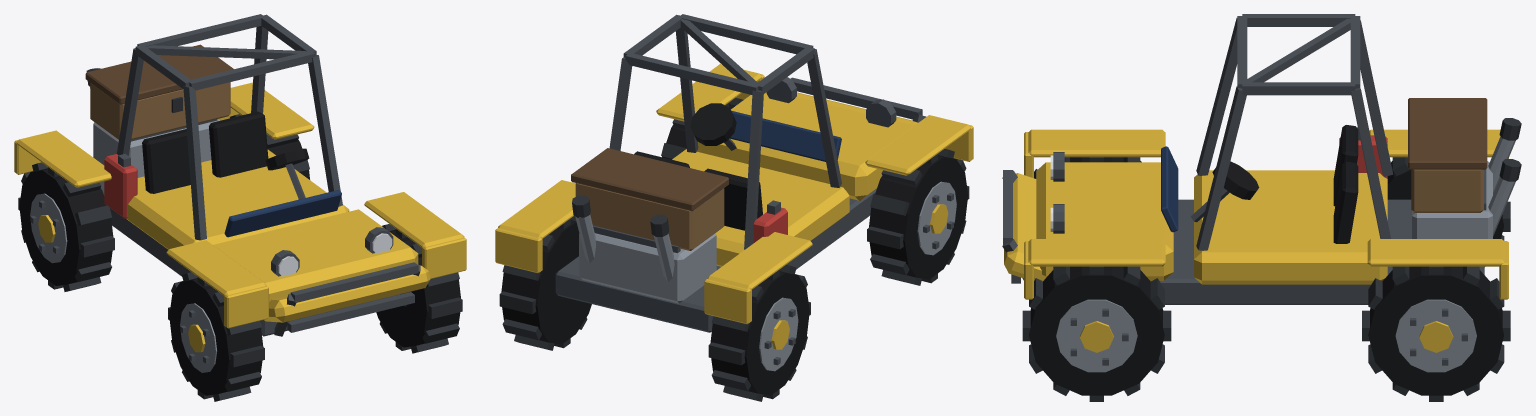
File: buggy.glb
3 renders of one model, left to right at view 1: azimuth 30°, elevation 25°; view 2: azimuth 150°, elevation 25°; view 3: azimuth 270°, elevation 25°, orthographic. The views are drawn at different scales.
Visible parts, largest first — view 1: pieces_jaune.002, pieces_acier_sombre.006, pieces_noir.004, roue_arg_noir.004, roue_avg_noir.004, pieces_bois.006, pieces_bois_sombre.004, roue_avd_noir.004, roue_arg_fonte.004, pieces_panneau.002, roue_avg_fonte.004, roue_avd_fonte.004 (+6 smaller); view 2: pieces_jaune.002, pieces_acier_sombre.006, pieces_acier.006, roue_avg_noir.004, pieces_bois_sombre.004, roue_arg_noir.004, pieces_bois.006, roue_ard_noir.004, pieces_noir.004, roue_avg_fonte.004, pieces_panneau.002, roue_arg_fonte.004 (+8 smaller); view 3: pieces_jaune.002, pieces_acier_sombre.006, roue_avd_noir.004, roue_ard_noir.004, pieces_bois_sombre.004, roue_ard_acier.004, roue_avd_acier.004, pieces_acier.006, pieces_noir.004, pieces_bois.006, roue_ard_fonte.004, roue_avd_fonte.004 (+6 smaller).
Part boxes in pixels (x1,y1,x2,y2): pieces_jaune.002: (14, 82, 466, 328); pieces_acier_sombre.006: (100, 14, 420, 336); pieces_noir.004: (142, 111, 309, 193); roue_arg_noir.004: (19, 168, 113, 285); roue_avg_noir.004: (169, 278, 263, 395); pieces_bois.006: (90, 82, 230, 139); pieces_bois_sombre.004: (85, 44, 233, 104); roue_avd_noir.004: (376, 230, 460, 347); roue_arg_fonte.004: (18, 162, 114, 291); pieces_panneau.002: (224, 190, 341, 237); roue_avg_fonte.004: (168, 272, 264, 401); roue_avd_fonte.004: (379, 224, 462, 353); pieces_jaune.002: (495, 64, 973, 324); pieces_acier_sombre.006: (555, 14, 926, 332); pieces_acier.006: (575, 214, 716, 303); roue_avg_noir.004: (869, 155, 968, 279); pieces_bois_sombre.004: (571, 148, 728, 211); roue_arg_noir.004: (710, 271, 809, 395); pieces_bois.006: (575, 183, 724, 250); roue_ard_noir.004: (501, 220, 591, 344); pieces_noir.004: (634, 103, 762, 230); roue_avg_fonte.004: (867, 149, 969, 285); pieces_panneau.002: (730, 110, 841, 161); roue_arg_fonte.004: (708, 264, 810, 401); pieces_jaune.002: (1004, 129, 1508, 299); pieces_acier_sombre.006: (1002, 14, 1486, 304); roue_avd_noir.004: (1029, 266, 1164, 395); roue_ard_noir.004: (1368, 266, 1503, 395); pieces_bois_sombre.004: (1408, 98, 1487, 169); roue_ard_acier.004: (1395, 299, 1476, 372); roue_avd_acier.004: (1056, 299, 1137, 372); pieces_acier.006: (1412, 136, 1515, 238); pieces_noir.004: (1212, 125, 1358, 243); pieces_bois.006: (1411, 169, 1483, 212); roue_ard_fonte.004: (1362, 266, 1510, 401); roue_avd_fonte.004: (1022, 266, 1171, 401).
Size of the model in its own units: 1.67 by 1.67 by 2.73.
